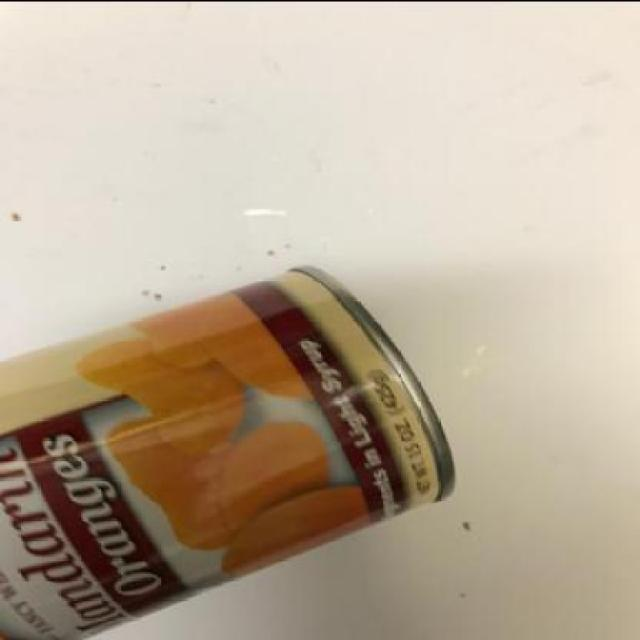METAL: (1, 261, 458, 639)
